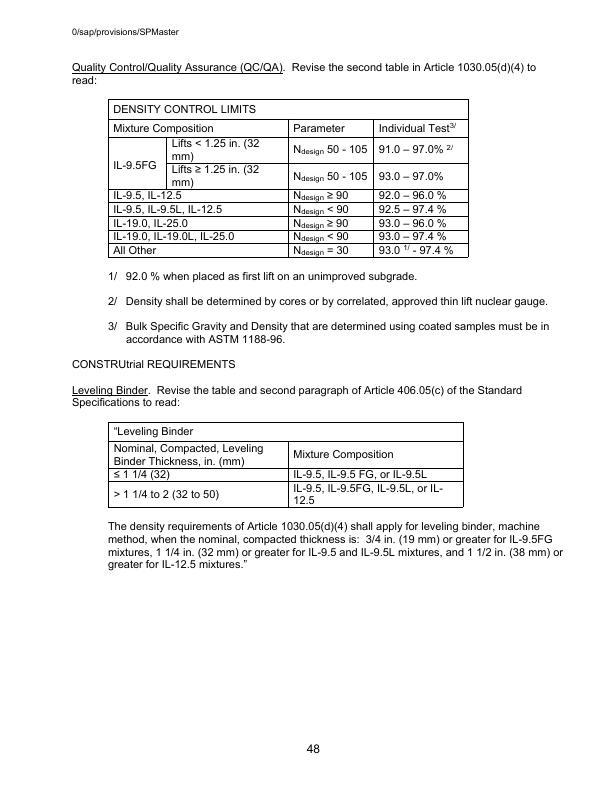table: (104, 97, 473, 262), (104, 420, 469, 513)
text: (103, 270, 555, 347), (103, 518, 568, 577), (69, 357, 531, 410), (68, 54, 543, 86)
